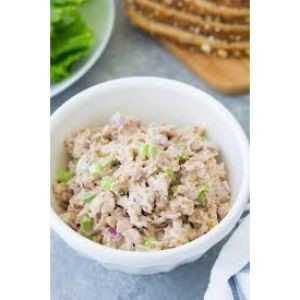tuna_brain food: (59, 102, 217, 265)
